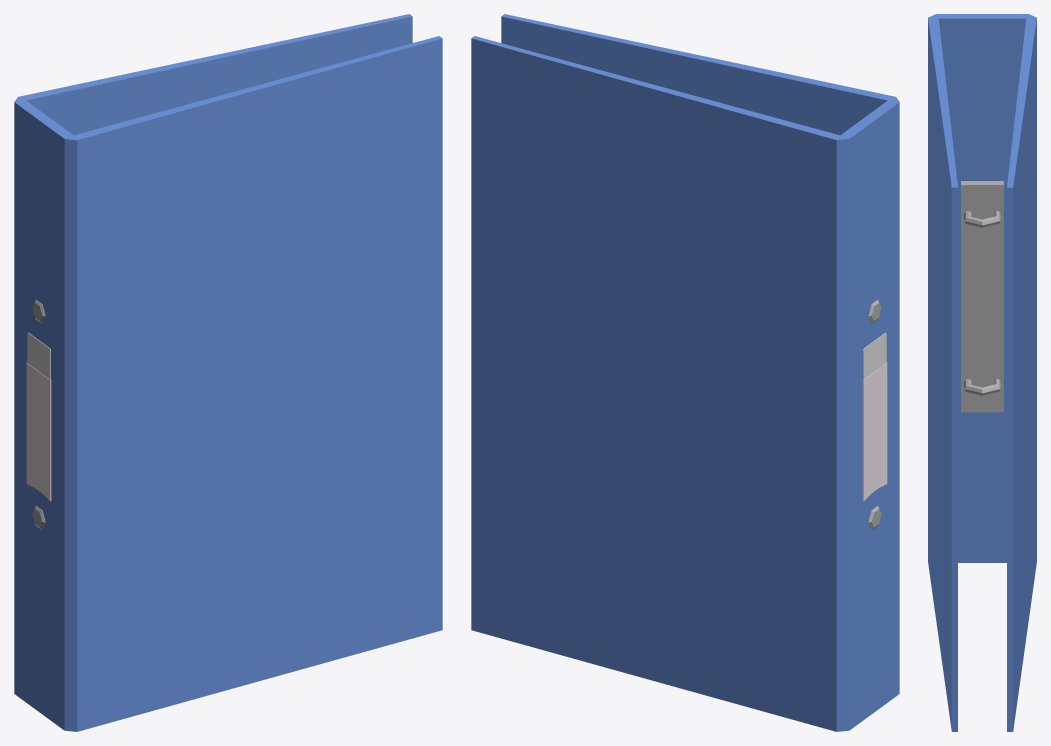
The model's file is Binder.glb.
The picture shows the model from 3 angles, left to right: view 1: azimuth 30°, elevation 25°; view 2: azimuth 150°, elevation 25°; view 3: azimuth 270°, elevation 25°; orthographic projection. The views are drawn at different scales.
Visible parts, largest first — view 1: Binder_Cube; view 2: Binder_Cube; view 3: Binder_Cube.
Boxes of the visible parts, box(x1,y1,x2,y2) form: Binder_Cube: box(14, 14, 442, 731); Binder_Cube: box(471, 14, 899, 731); Binder_Cube: box(928, 14, 1036, 731).
Bounding box in the file's own units: 0.5428 × 0.7898 × 0.1432.
